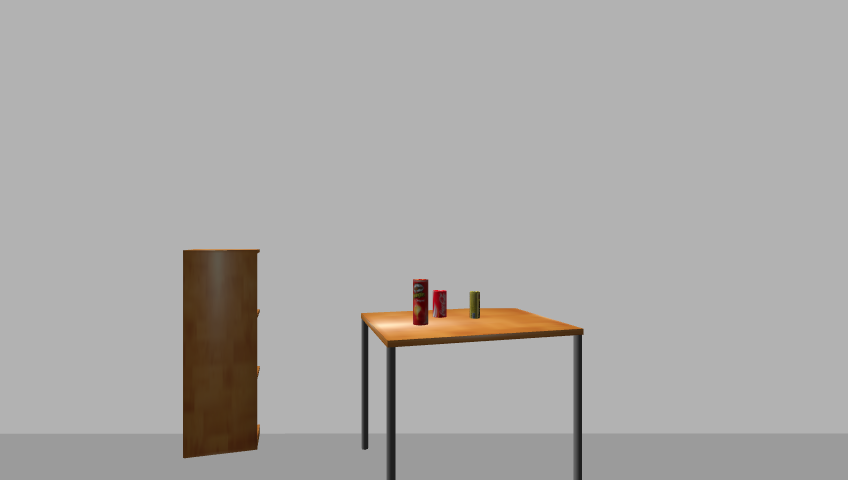biscuits pack: (469, 291, 482, 322)
bookshelf: (179, 247, 264, 461)
coke can: (432, 290, 448, 319)
dinner table: (354, 305, 591, 480)
pringles can: (411, 278, 429, 326)
